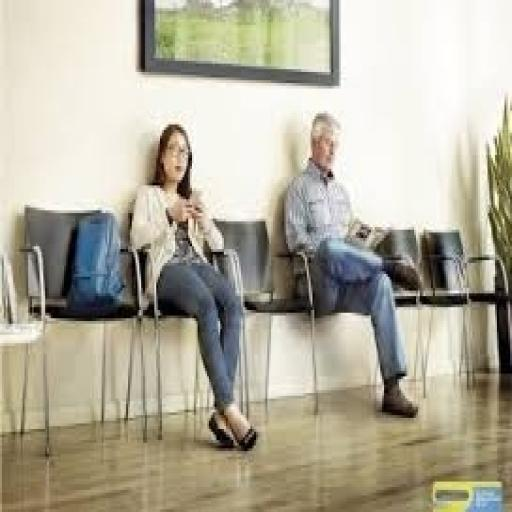sitting: (128, 119, 260, 451), (282, 108, 422, 421)
